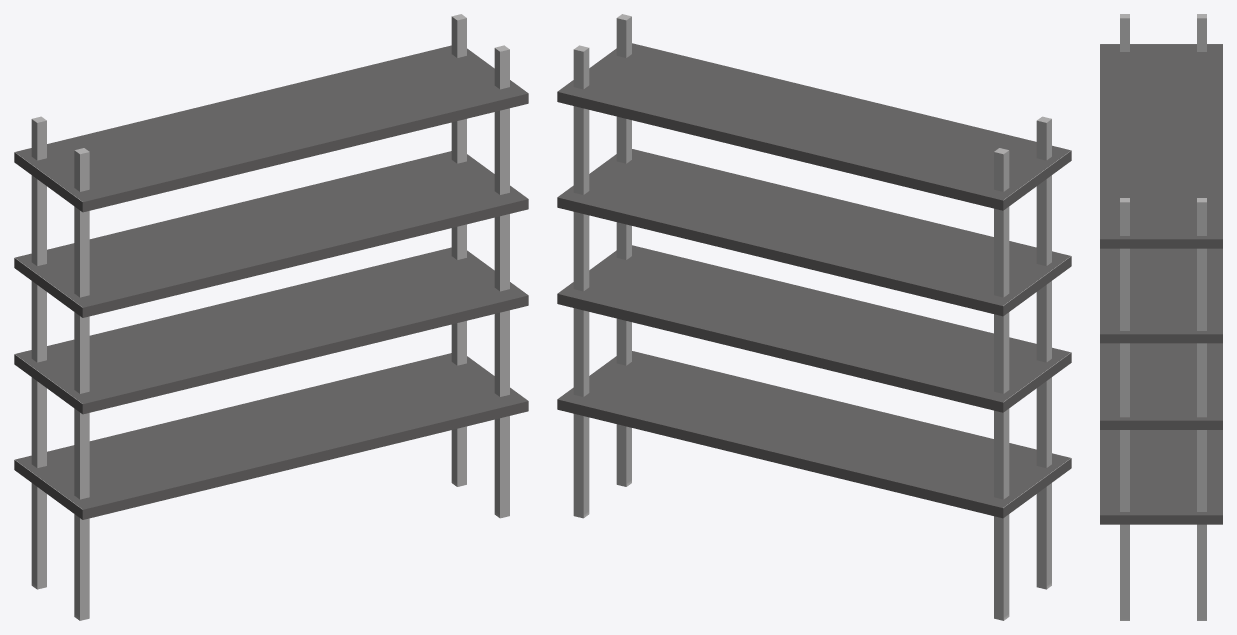
File: rak.fbx
3 views of the same model, side by side, from view 1: azimuth 30°, elevation 25°; view 2: azimuth 150°, elevation 25°; view 3: azimuth 270°, elevation 25° (orthographic). The views are drawn at different scales.
Parts seen in each view (by area): view 1: Cube; view 2: Cube; view 3: Cube.
Boxes of the visible parts, box(x1,y1,x2,y2) form: Cube: box(14, 14, 528, 620); Cube: box(557, 14, 1071, 620); Cube: box(1100, 14, 1222, 620).
Size of the model in its own units: 933 by 933 by 248.
